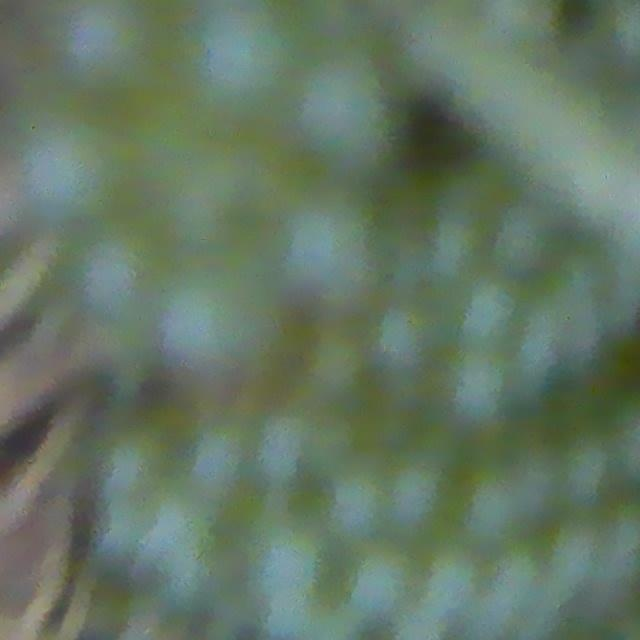SeaGrape: (292, 56, 399, 170), (191, 4, 293, 113), (266, 204, 380, 299), (154, 271, 254, 371), (52, 0, 150, 89), (243, 515, 332, 607), (70, 224, 158, 317), (15, 122, 94, 218), (437, 347, 513, 429), (417, 542, 489, 618), (341, 547, 412, 623), (460, 459, 522, 544), (315, 465, 380, 543), (455, 275, 524, 346), (371, 302, 439, 374), (303, 330, 367, 401), (180, 429, 250, 493), (482, 547, 545, 617), (258, 410, 313, 483), (385, 463, 446, 528), (97, 443, 164, 502), (556, 436, 609, 508), (510, 459, 564, 529), (542, 527, 600, 582), (264, 595, 319, 640), (604, 509, 640, 573)
